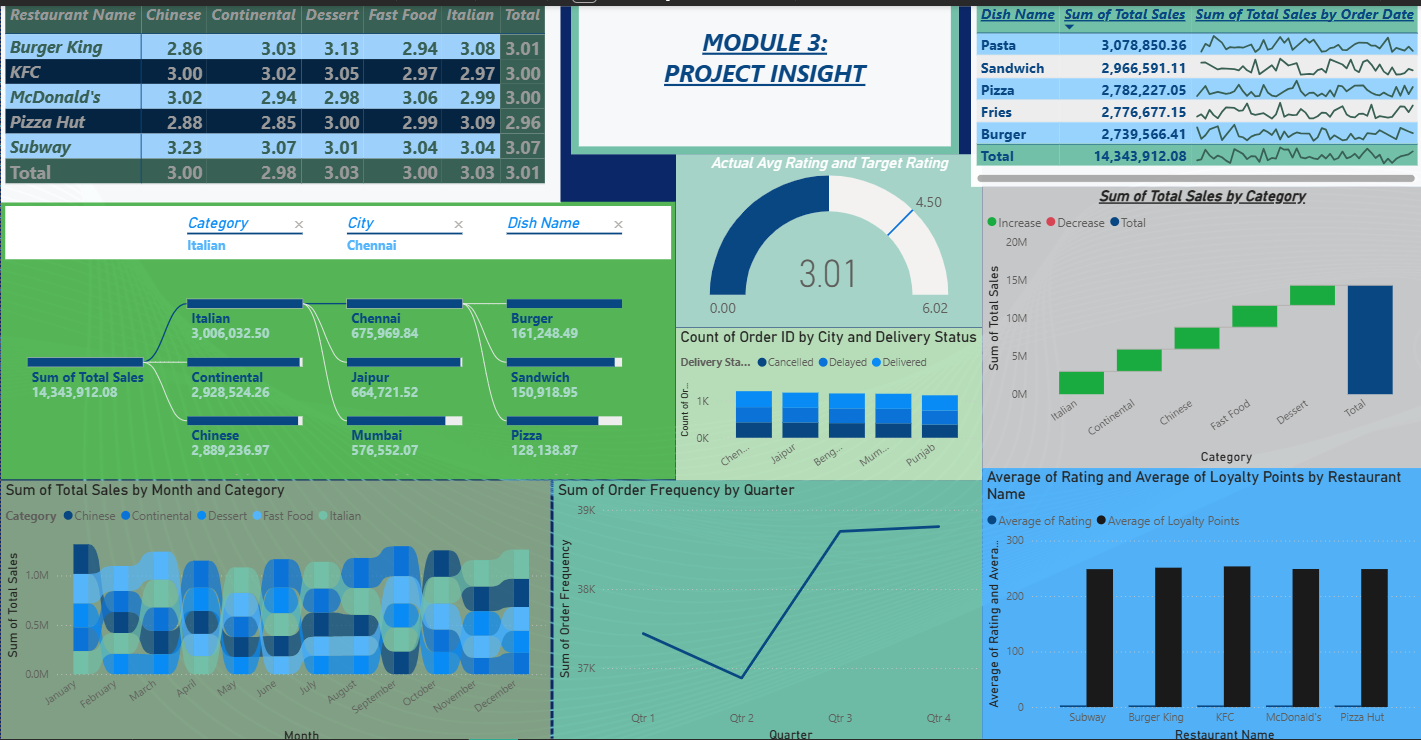

Layout of this report page (visuals, bound fields, positions):
{"tool":"powerbi","page":{"name":"Project Insight ","canvas":[1600,843],"ordinal":2},"visuals":[{"type":"gauge","fields":{"TargetValue":["Foodpanda Analysis Dataset.Target Rating"],"Y":["Foodpanda Analysis Dataset.Actual Avg Rating"]},"box":[760.3,176.2,345.2,195.2],"z":0},{"type":"ribbonChart","fields":{"Category":["Foodpanda Analysis Dataset.Order Date.Variation.Date Hierarchy.Month"],"Series":["Foodpanda Analysis Dataset.Category"],"Y":["Sum(Foodpanda Analysis Dataset.Total Sales)"]},"box":[0,543.3,619,300],"z":1000},{"type":"decompositionTreeVisual","fields":{"Analyze":["Sum(Foodpanda Analysis Dataset.Total Sales)"],"ExplainBy":["Foodpanda Analysis Dataset.Category","Foodpanda Analysis Dataset.City","Foodpanda Analysis Dataset.Dish Name"]},"box":[0,230.1,760.3,313.1],"z":2000},{"type":"waterfallChart","fields":{"Category":["Foodpanda Analysis Dataset.Category"],"Y":["Sum(Foodpanda Analysis Dataset.Total Sales)"]},"box":[1105.5,212.6,495.2,317.5],"z":3000},{"type":"tableEx","fields":{"Values":["Foodpanda Analysis Dataset.Dish Name","Sum(Foodpanda Analysis Dataset.Total Sales)","SparklineData(Sum(Foodpanda Analysis Dataset.Total Sales)_[Foodpanda Analysis Dataset.Order Date])"]},"box":[1092.4,0,508.3,212.6],"z":4000},{"type":"columnChart","fields":{"Category":["Foodpanda Analysis Dataset.City"],"Series":["Foodpanda Analysis Dataset.Delivery Status"],"Y":["CountNonNull(Foodpanda Analysis Dataset.Order ID)"]},"box":[760.3,371.4,345.2,171.9],"z":5000},{"type":"lineChart","fields":{"Category":["Foodpanda Analysis Dataset.Order Date.Variation.Date Hierarchy.Quarter"],"Y":["Sum(Foodpanda Analysis Dataset.Order Frequency)"]},"box":[621.9,543.3,483.5,300],"z":6000},{"type":"clusteredColumnChart","fields":{"Category":["Foodpanda Analysis Dataset.Restaurant Name"],"Y":["Avg(Foodpanda Analysis Dataset.Rating)","Avg(Foodpanda Analysis Dataset.Loyalty Points)"]},"box":[1105.5,530.2,495.2,313.1],"z":8000},{"type":"pivotTable","fields":{"Columns":["Foodpanda Analysis Dataset.Category"],"Rows":["Foodpanda Analysis Dataset.Restaurant Name"],"Values":["Avg(Foodpanda Analysis Dataset.Rating)"]},"box":[0,0,630.7,230.1],"z":9000},{"type":"textbox","box":[642.3,0,436.9,176.2],"z":10000}]}

Visuals, with their boxes in screenshot pixels (x1, y1, x2, y2), scaled from the page's 1600x843 canvas onto the 1421x740 screenshot:
gauge - Foodpanda Analysis Dataset.Target Rating x Foodpanda Analysis Dataset.Actual Avg Rating: select_region(675, 155, 982, 326)
ribbonChart - Foodpanda Analysis Dataset.Order Date.Variation.Date Hierarchy.Month x Foodpanda Analysis Dataset.Category: select_region(0, 477, 550, 739)
decompositionTreeVisual - Sum(Foodpanda Analysis Dataset.Total Sales) x Foodpanda Analysis Dataset.Category: select_region(0, 202, 675, 477)
waterfallChart - Foodpanda Analysis Dataset.Category x Sum(Foodpanda Analysis Dataset.Total Sales): select_region(982, 187, 1420, 465)
tableEx - Foodpanda Analysis Dataset.Dish Name x Sum(Foodpanda Analysis Dataset.Total Sales): select_region(970, 0, 1420, 187)
columnChart - Foodpanda Analysis Dataset.City x Foodpanda Analysis Dataset.Delivery Status: select_region(675, 326, 982, 477)
lineChart - Foodpanda Analysis Dataset.Order Date.Variation.Date Hierarchy.Quarter x Sum(Foodpanda Analysis Dataset.Order Frequency): select_region(552, 477, 982, 739)
clusteredColumnChart - Foodpanda Analysis Dataset.Restaurant Name x Avg(Foodpanda Analysis Dataset.Rating): select_region(982, 465, 1420, 739)
pivotTable - Foodpanda Analysis Dataset.Category x Foodpanda Analysis Dataset.Restaurant Name: select_region(0, 0, 560, 202)
textbox: select_region(570, 0, 958, 155)
